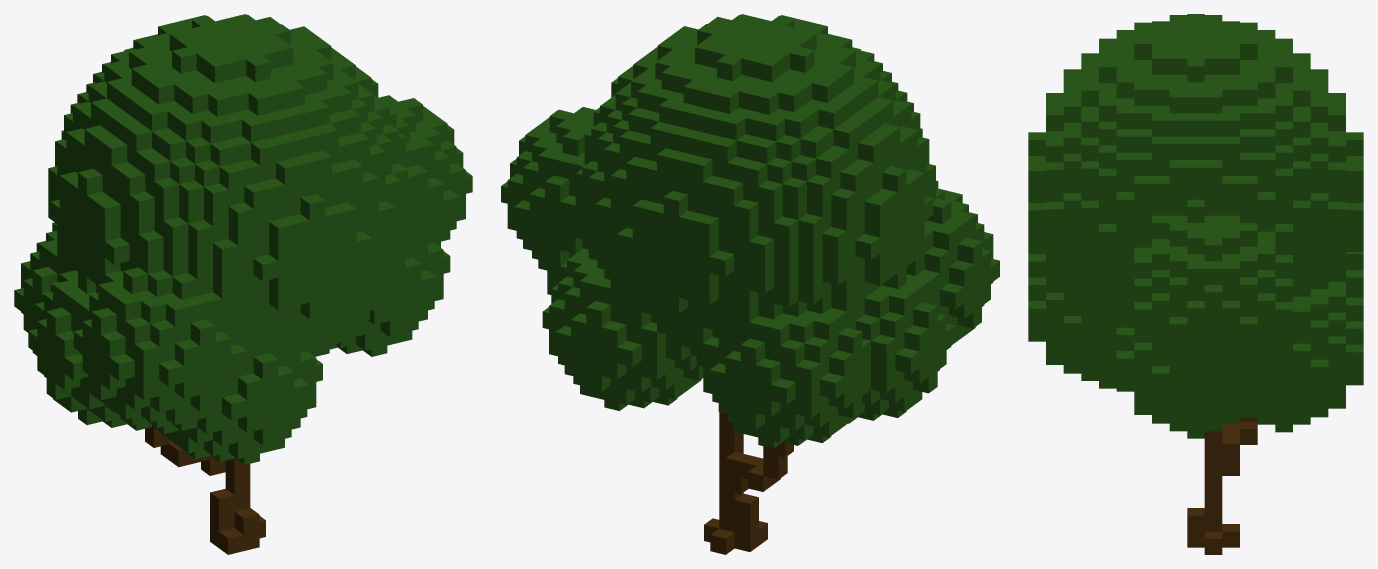
File: bush2bb.obj
3 renders of one model, left to right at view 1: azimuth 30°, elevation 25°; view 2: azimuth 150°, elevation 25°; view 3: azimuth 270°, elevation 25°, orthographic. The views are drawn at different scales.
Size of the model in its own units: 2.6 by 3.1 by 1.9.
Materials: 1 (1 with a texture image).
